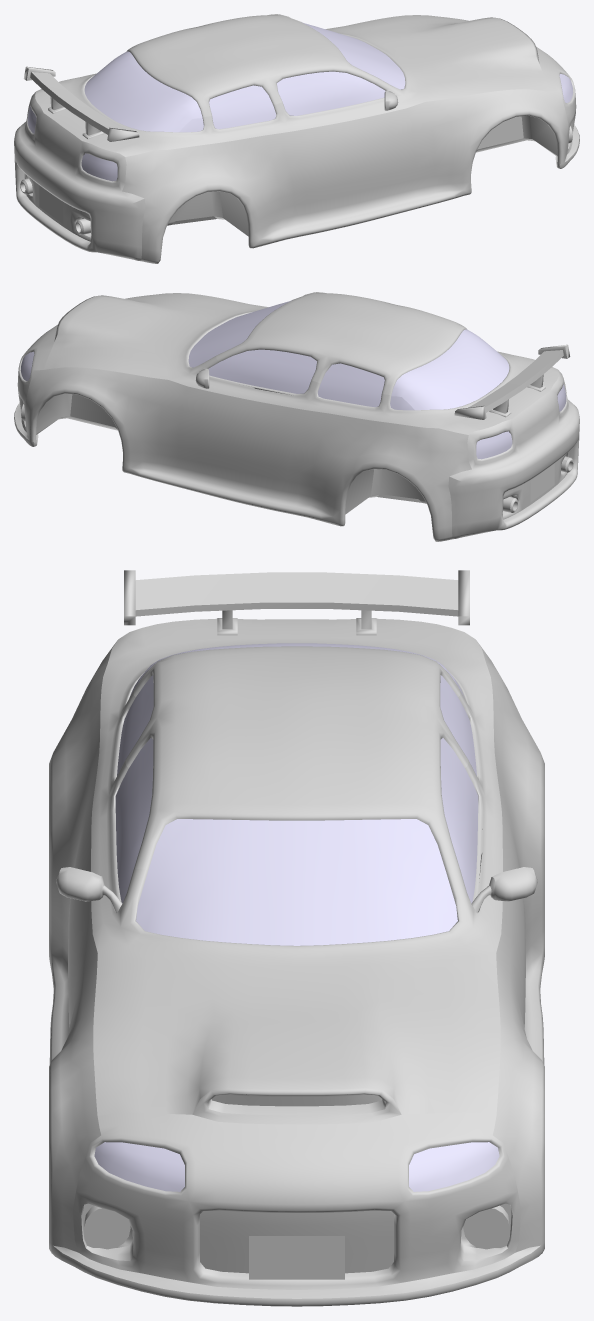
File: car.fbx
3 views of the same model, one above another, from view 1: azimuth 30°, elevation 25°; view 2: azimuth 150°, elevation 25°; view 3: azimuth 270°, elevation 25° (orthographic). The views are drawn at different scales.
Parts seen in each view (by area): view 1: Mesh02, Mesh01, Mesh03, Mesh04; view 2: Mesh02, Mesh01, Mesh03, Mesh04; view 3: Mesh02, Mesh01, Mesh04.
Part boxes in pixels (x1=…): Mesh02: x1=14, y1=14, x2=579, y2=263; Mesh01: x1=27, y1=22, x2=573, y2=181; Mesh03: x1=167, y1=115, x2=557, y2=236; Mesh04: x1=20, y1=126, x2=572, y2=234; Mesh02: x1=14, y1=292, x2=579, y2=541; Mesh01: x1=20, y1=300, x2=566, y2=459; Mesh03: x1=36, y1=387, x2=426, y2=514; Mesh04: x1=21, y1=404, x2=573, y2=512; Mesh02: x1=49, y1=570, x2=544, y2=1306; Mesh01: x1=94, y1=643, x2=499, y2=1191; Mesh04: x1=84, y1=1205, x2=509, y2=1249.
Size of the model in its own units: 5.96 by 1.67 by 2.49.
